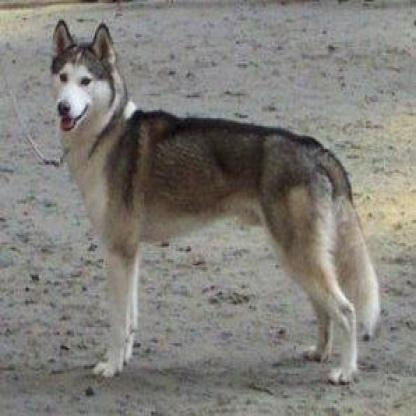Eskimo_dog: (47, 18, 380, 384)
